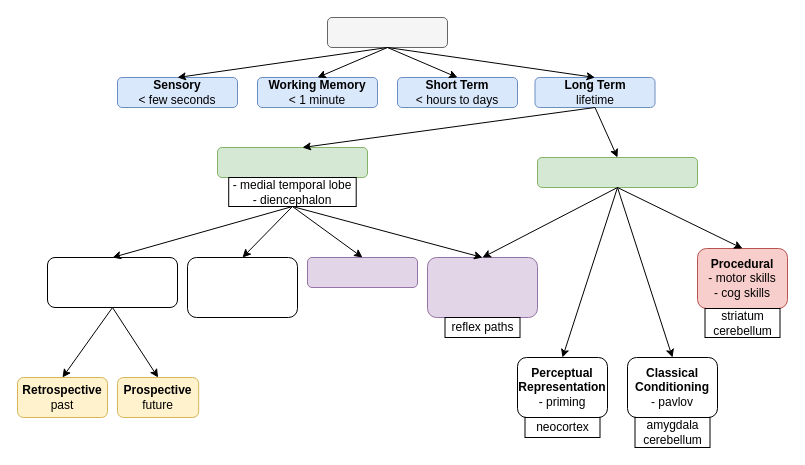
Some shapes in this 805 by 465 pixel diagram are drawn without their labels. Each missing label, with the centre of its shape:
"Contextual Associative" belongs at (x=362, y=272).
"Declarative/Explicit consciously recalled" belongs at (x=292, y=162).
"Events (episodic) - non-personal events - personal experiences" belongs at (x=112, y=282).
"Facts (semantic) - world - objects - language" belongs at (x=242, y=287).
"Human Memory" belongs at (x=387, y=32).
"Non-Contextual Non-Associative - habitual - sensitization" belongs at (x=482, y=287).
"Non-Declarative/Implicit unconsciously recalled" belongs at (x=617, y=172).
